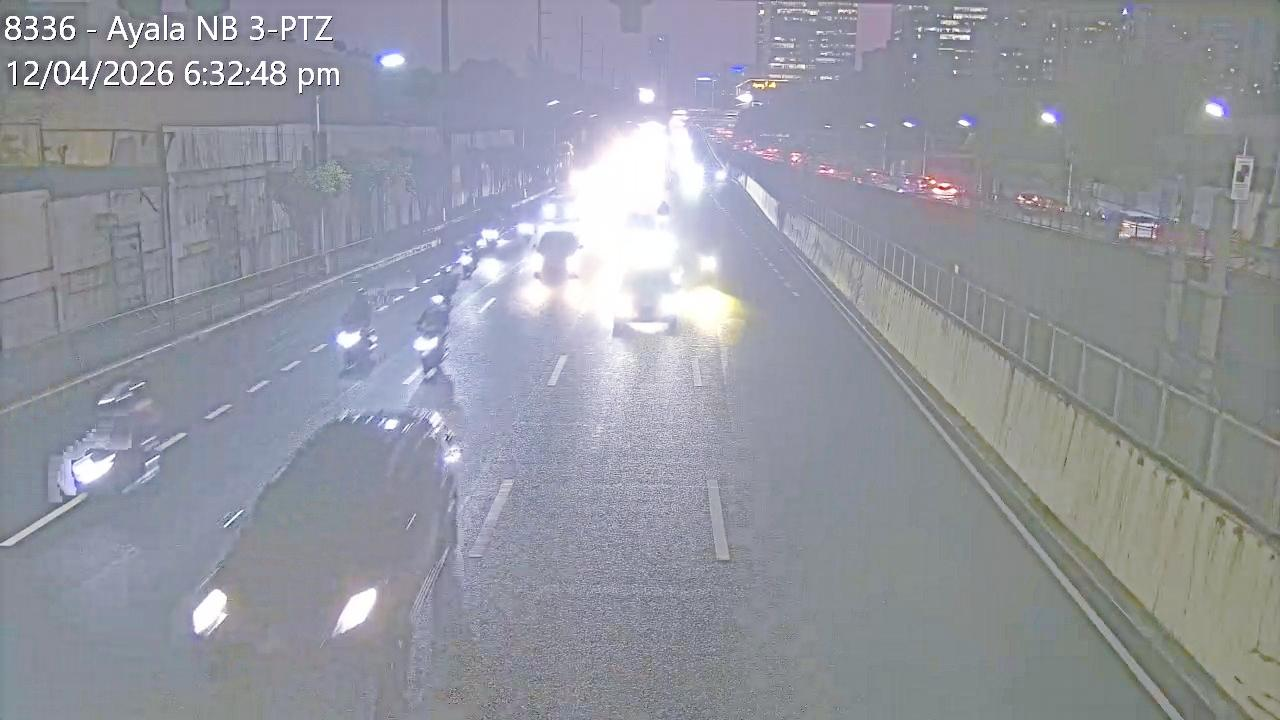Car: (188, 406, 463, 701), (609, 217, 687, 331), (532, 228, 585, 284), (542, 193, 580, 230)
Motor: (40, 382, 172, 520), (336, 316, 384, 373), (414, 318, 452, 378), (428, 260, 453, 308), (695, 249, 720, 282), (457, 246, 477, 275), (478, 226, 501, 250), (516, 218, 538, 242)
Not Accident: (612, 218, 688, 326), (413, 268, 458, 382), (534, 190, 585, 282)
